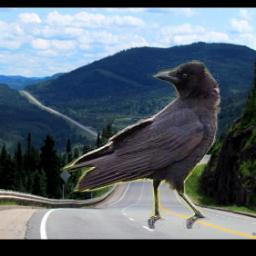Crow: (61, 60, 222, 229)
